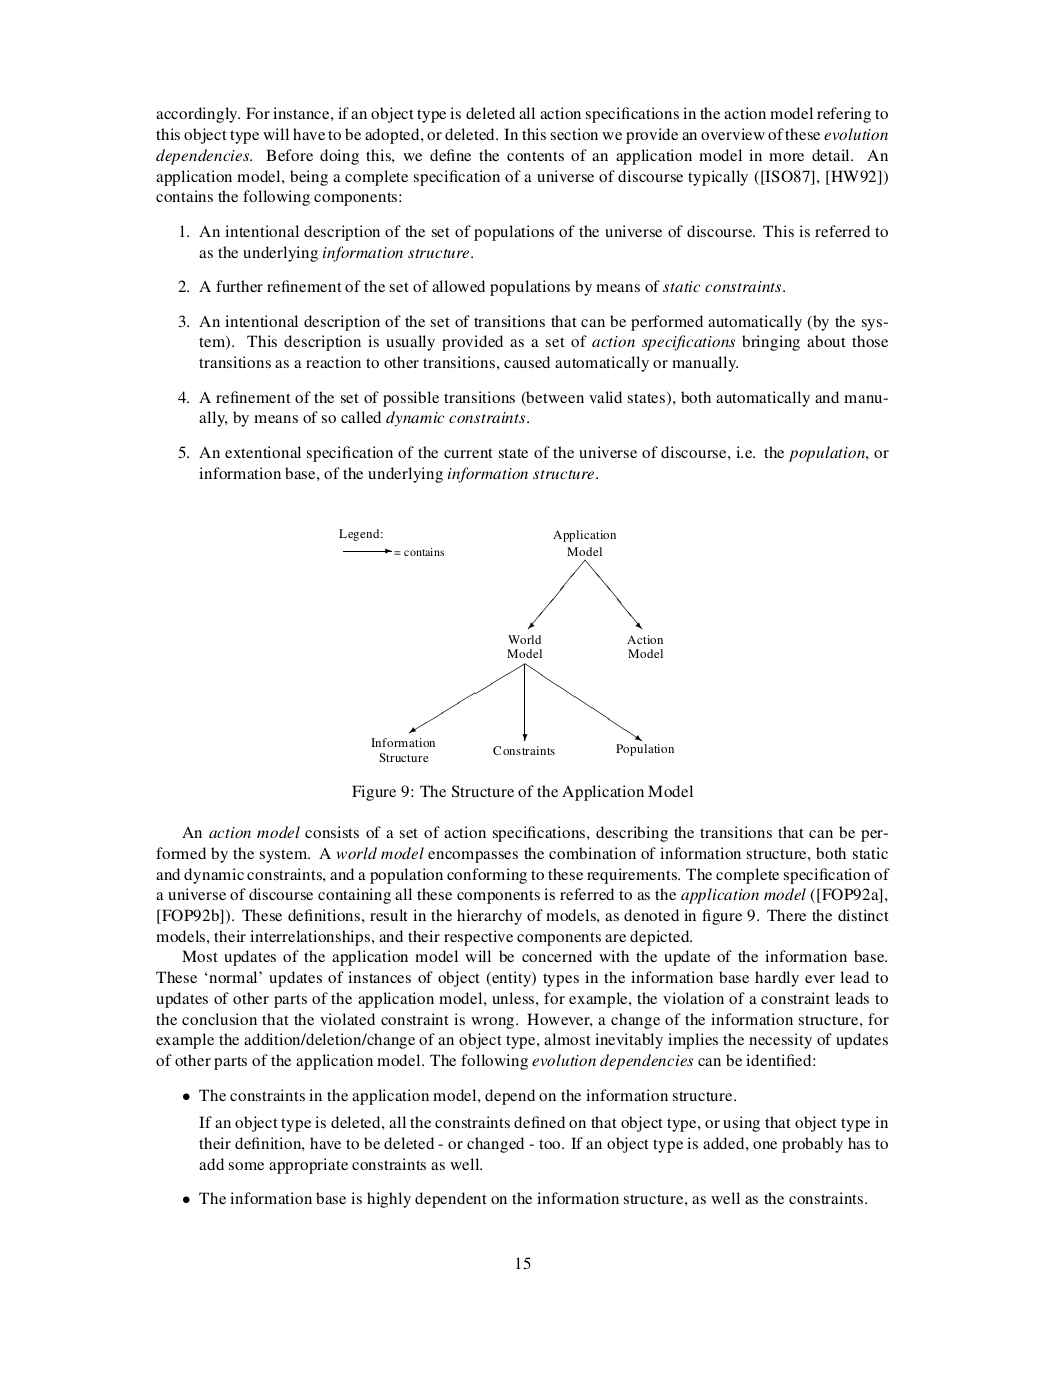figure: (339, 529, 674, 762)
